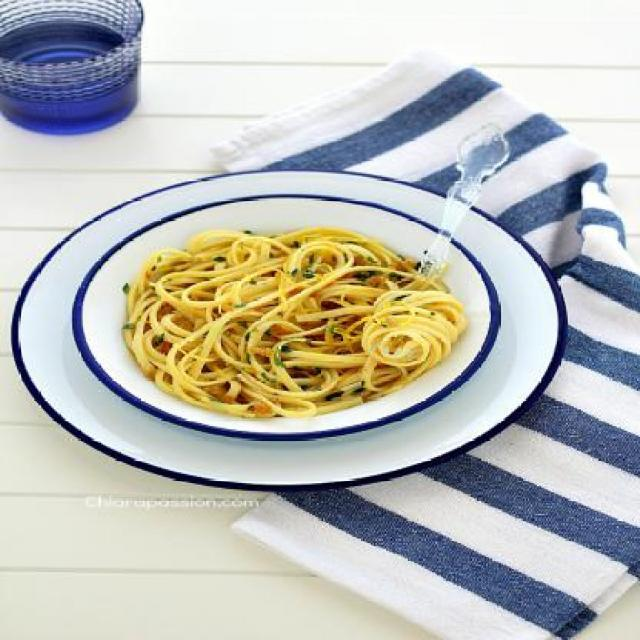Oil pasta: (77, 197, 526, 446)
